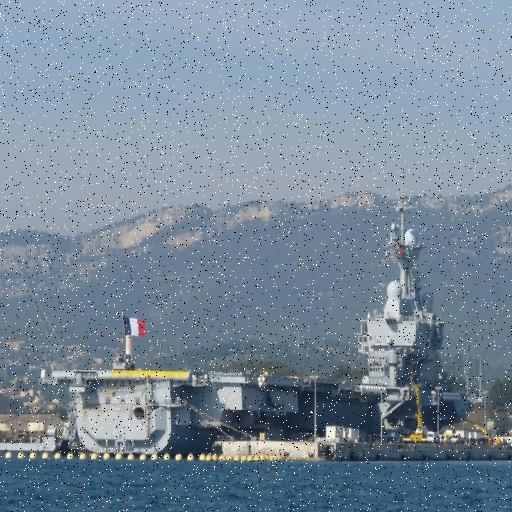Portanaves: (44, 162, 474, 466)
